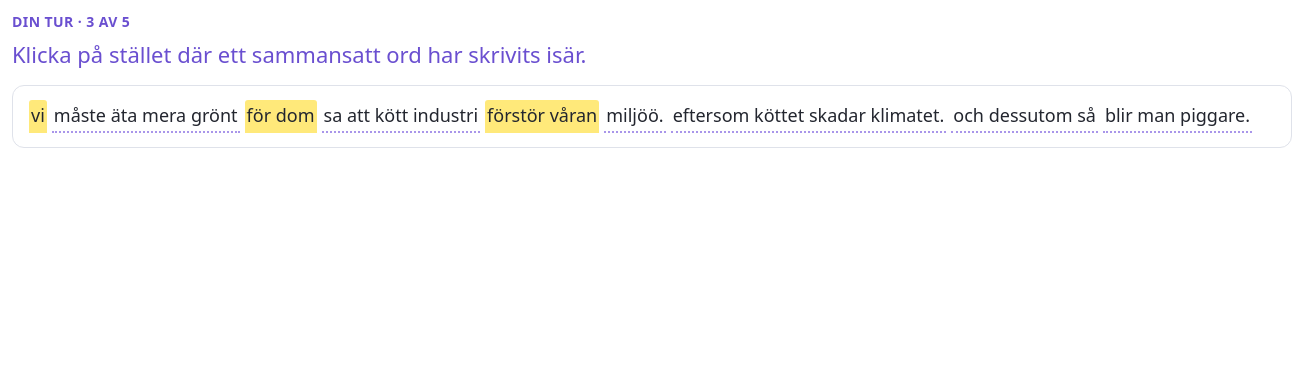
Test: error hunt on the whiteboard › lets the student click the errors one kind at a time and then shows the corrected text
This screenshot has width=1292, height=381.
Earlier steps of the test are not shown.
Click the button "sa att kött industri" at (401, 116), box [322, 100, 480, 133]
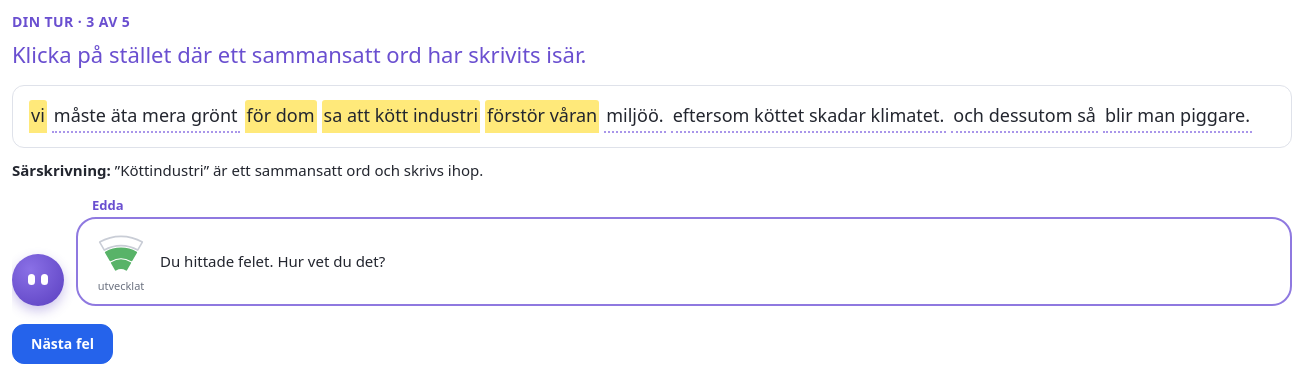
Expected: the text "Du hittade felet. Hur vet du det?" is shown, [160, 251, 385, 272]
Click the button "Nästa fel" at (62, 344), box [12, 324, 113, 364]
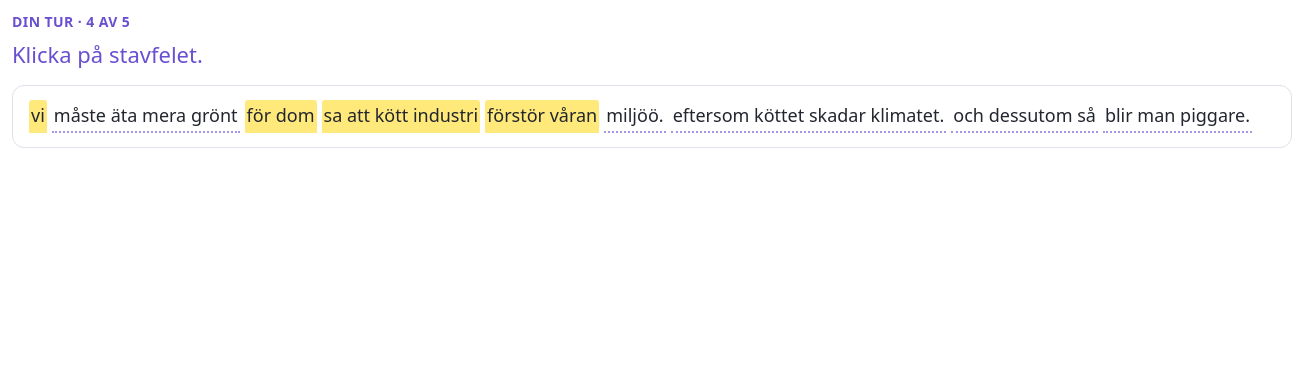
Click the button "miljöö." at (635, 116), box [604, 100, 666, 133]
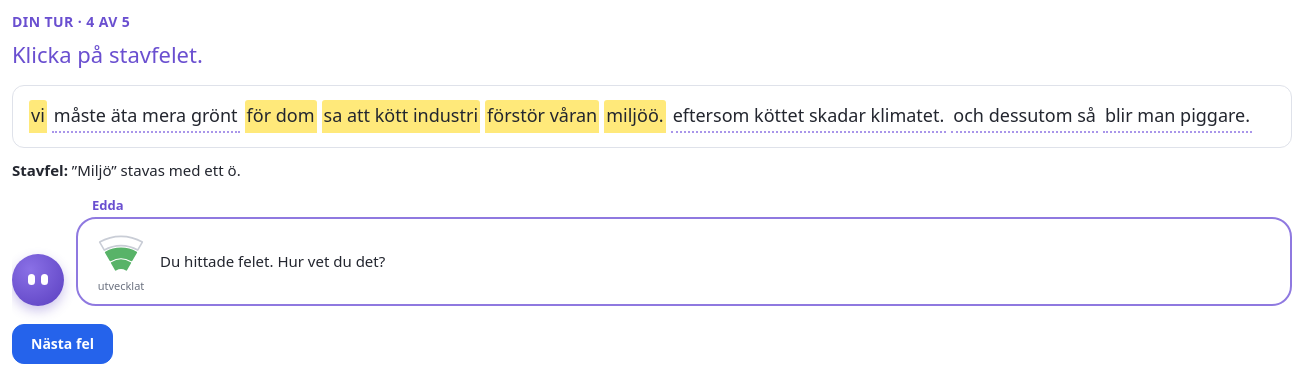
Expected: the text "Du hittade felet. Hur vet du det?" is shown, [160, 251, 385, 272]
Click the button "Nästa fel" at (62, 344), box [12, 324, 113, 364]
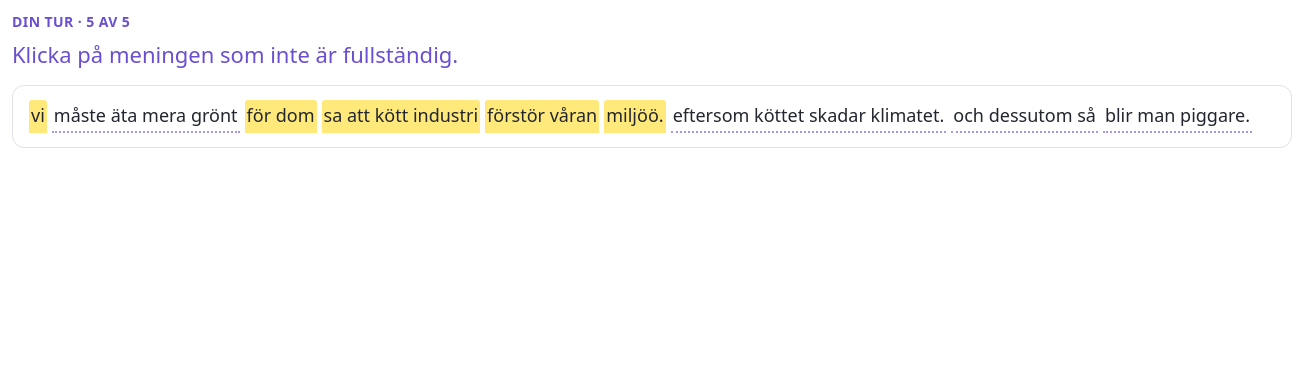
Click the button "eftersom köttet skadar klimatet." at (808, 116), box [671, 100, 946, 133]
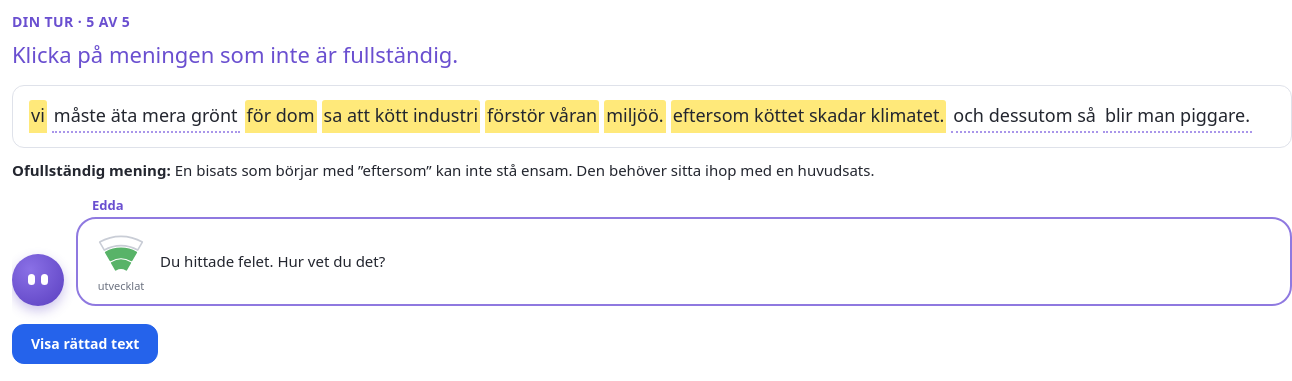
Expected: the text "Du hittade felet. Hur vet du det?" is shown, [160, 251, 385, 272]
Click the button "Visa rättad text" at (85, 344), box [12, 324, 158, 364]
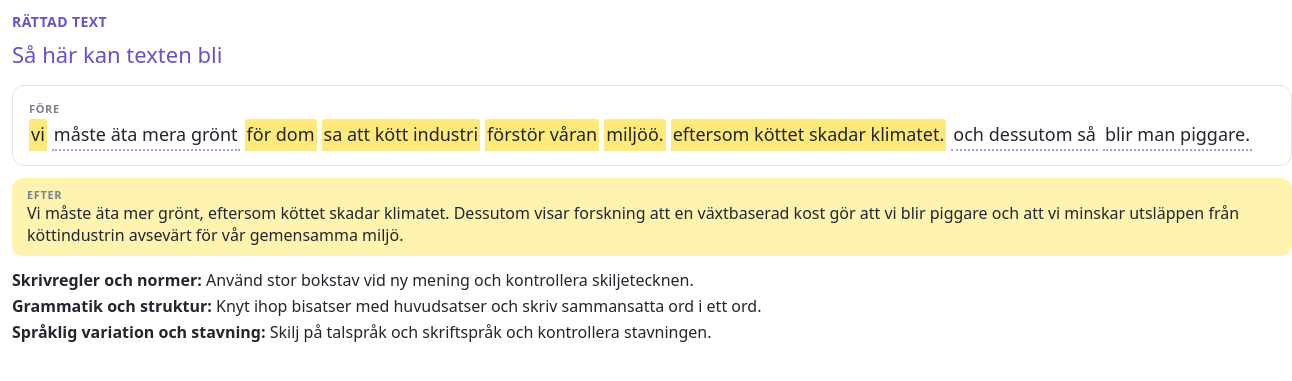
Expected: the number of buttons with class "is-found" is 6, [29, 119, 47, 151]; [244, 119, 316, 151]; [322, 119, 480, 151]; [485, 119, 599, 151]; [604, 119, 666, 151]; [671, 119, 946, 151]
Expected: the text "Vi måste äta mer grönt, eftersom köttet skadar klimatet. Dessutom visar forskning att en växtbaserad kost gör att vi bli" is shown, [27, 202, 1239, 246]
Expected: the list item "Använd stor bokstav vid ny mening och kontrollera skiljetecknen." is shown, [206, 269, 694, 291]
